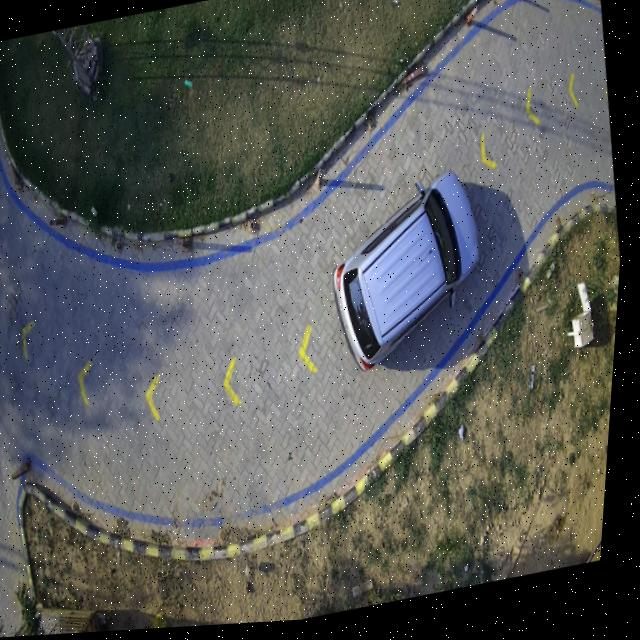car: (336, 175, 482, 374)
